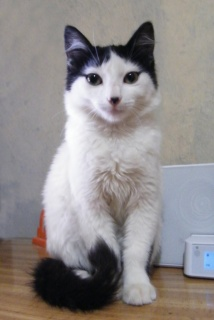Cat: (21, 19, 163, 314)
